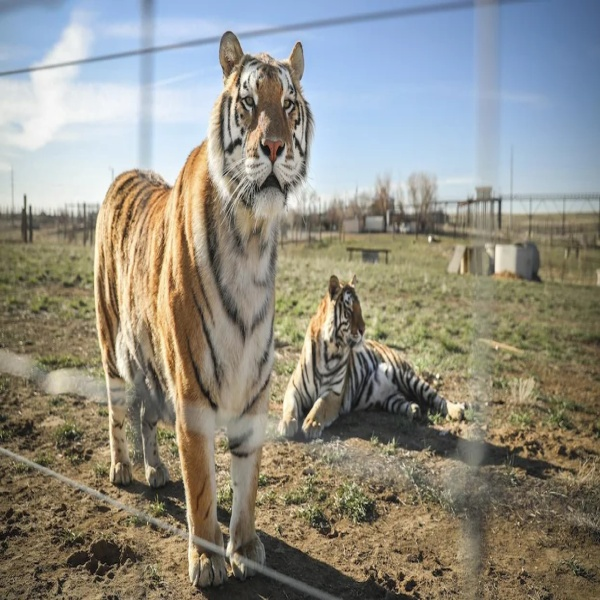Tiger: (90, 25, 320, 593), (276, 271, 470, 442)
